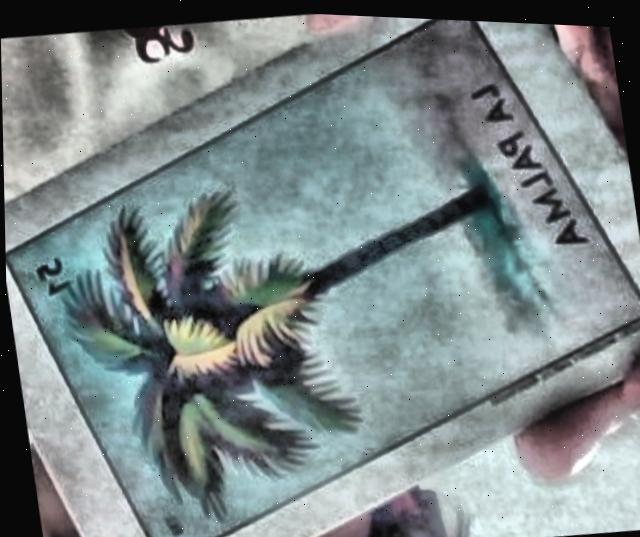La Palma: (4, 15, 640, 537)
